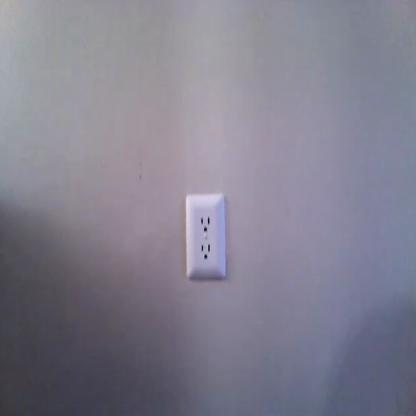OUTLET: (185, 195, 226, 278)
